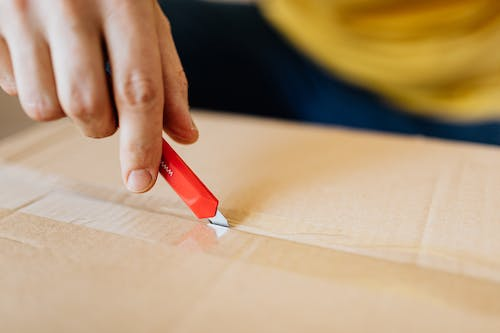knife: (158, 137, 232, 227)
